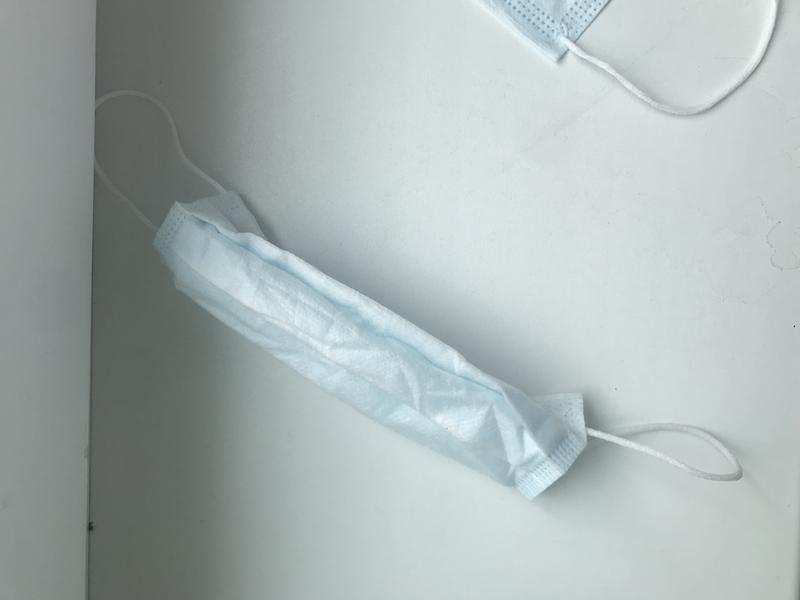medical_mask: (87, 89, 744, 501)
